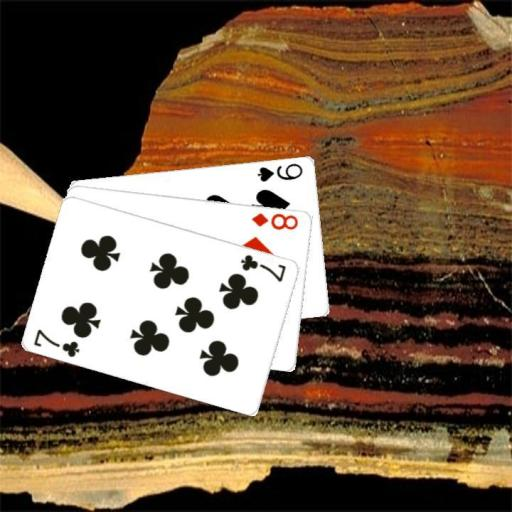7C: (238, 251, 288, 284), (31, 326, 82, 358)
8D: (248, 210, 300, 231)
9S: (254, 159, 305, 183)
